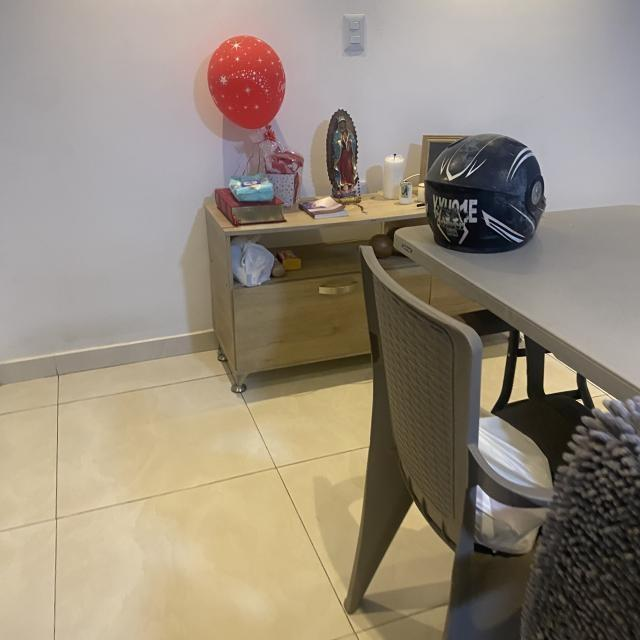obstacle: (348, 233, 638, 630), (185, 118, 540, 399)
